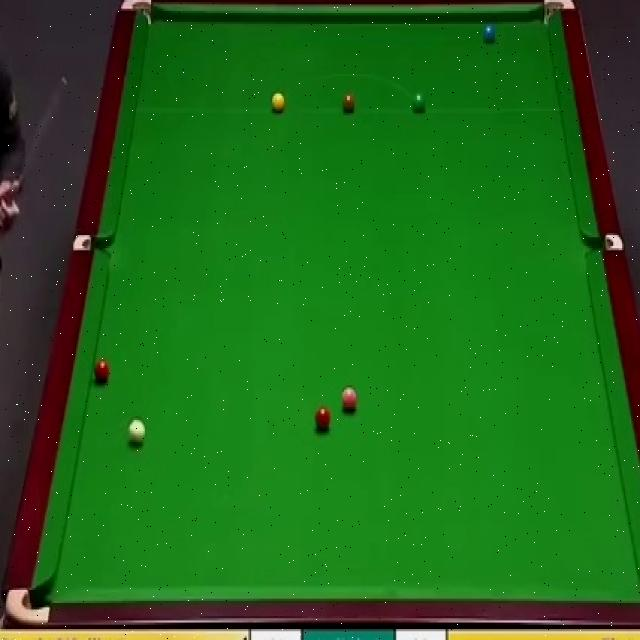blue-ball: (482, 23, 498, 44)
brown-ball: (341, 94, 356, 112)
green-ball: (411, 89, 427, 115)
pink-ball: (340, 386, 358, 411)
red-ball: (94, 358, 111, 383), (314, 405, 330, 430)
white-ball: (128, 418, 147, 448)
yellow-ball: (270, 90, 286, 113)
